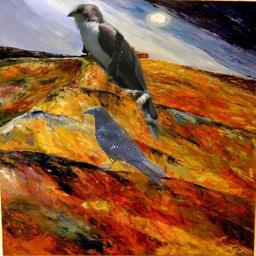Crow: (82, 106, 167, 186)
Cuckoo: (66, 4, 170, 142)
